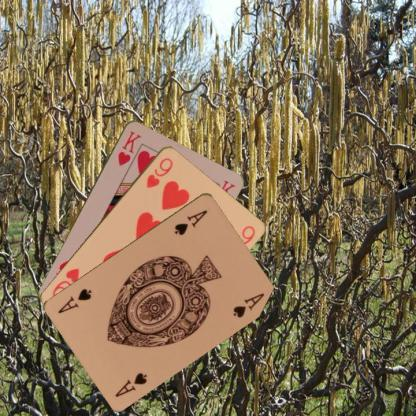9h: (144, 154, 174, 190)
As: (172, 207, 209, 236), (112, 369, 149, 398)
Kh: (114, 128, 143, 167)
